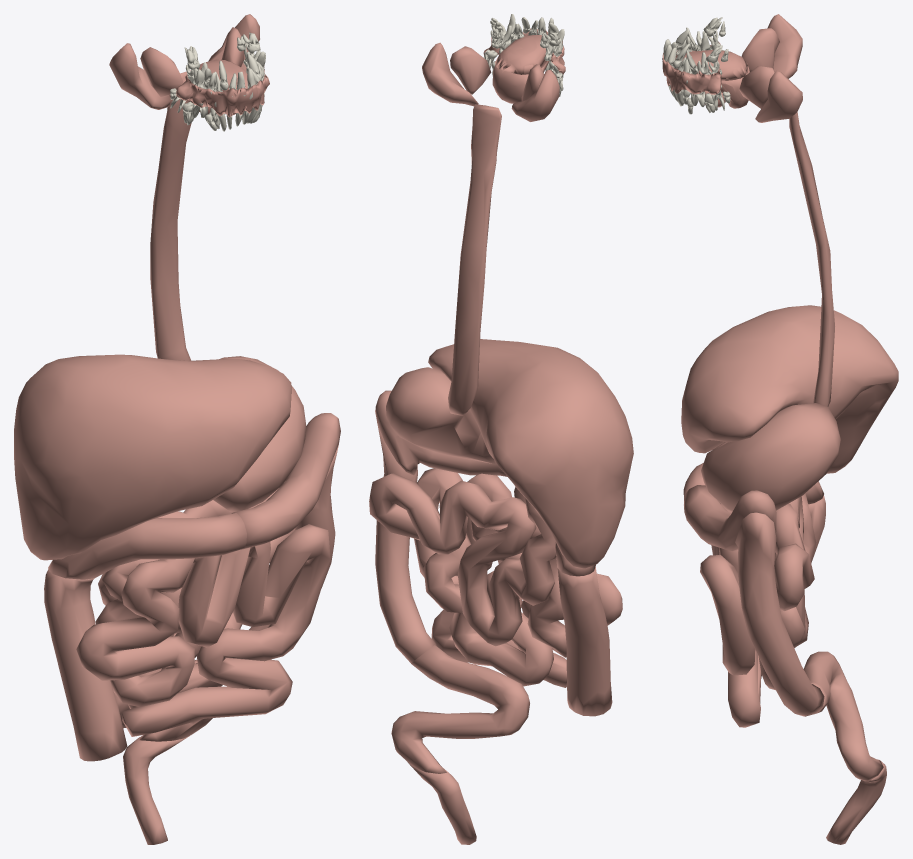
File: pediatric_child_10y_male.digestive.LOD2.glb
3 views of the same model, side by side, from view 1: azimuth 30°, elevation 25°; view 2: azimuth 150°, elevation 25°; view 3: azimuth 270°, elevation 25° (orthographic). The views are drawn at different scales.
Parts seen in each view (by area): view 1: PEDIATRIC.CHILD_10Y.MALE.DIGESTIVE.LIVER, PEDIATRIC.CHILD_10Y.MALE.DIGESTIVE.SMALL_INTESTINE_WALL, PEDIATRIC.CHILD_10Y.MALE.DIGESTIVE.ASCENDING_COLON_WALL, PEDIATRIC.CHILD_10Y.MALE.DIGESTIVE.OESOPHAGUS_WALL, PEDIATRIC.CHILD_10Y.MALE.DIGESTIVE.TRANSVERSE_COLON_WALL.R, PEDIATRIC.CHILD_10Y.MALE.DIGESTIVE.TRANSVERSE_COLON_WALL.L, PEDIATRIC.CHILD_10Y.MALE.DIGESTIVE.STOMACH_WALL, PEDIATRIC.CHILD_10Y.MALE.DIGESTIVE.SALIVARY_GLANDS.R, PEDIATRIC.CHILD_10Y.MALE.DIGESTIVE.RECTUM_WALL, PEDIATRIC.CHILD_10Y.MALE.DIGESTIVE.PERMANENT_CEMENTUM, PEDIATRIC.CHILD_10Y.MALE.DIGESTIVE.ORAL_MUCOSA_LIP_AND_CHEEK, PEDIATRIC.CHILD_10Y.MALE.DIGESTIVE.DESCENDING_COLON_WALL (+3 smaller); view 2: PEDIATRIC.CHILD_10Y.MALE.DIGESTIVE.SMALL_INTESTINE_WALL, PEDIATRIC.CHILD_10Y.MALE.DIGESTIVE.LIVER, PEDIATRIC.CHILD_10Y.MALE.DIGESTIVE.OESOPHAGUS_WALL, PEDIATRIC.CHILD_10Y.MALE.DIGESTIVE.SIGMOID_COLON_WALL, PEDIATRIC.CHILD_10Y.MALE.DIGESTIVE.ASCENDING_COLON_WALL, PEDIATRIC.CHILD_10Y.MALE.DIGESTIVE.STOMACH_WALL, PEDIATRIC.CHILD_10Y.MALE.DIGESTIVE.DESCENDING_COLON_WALL, PEDIATRIC.CHILD_10Y.MALE.DIGESTIVE.SALIVARY_GLANDS.L, PEDIATRIC.CHILD_10Y.MALE.DIGESTIVE.TRANSVERSE_COLON_WALL.L, PEDIATRIC.CHILD_10Y.MALE.DIGESTIVE.RECTUM_WALL, PEDIATRIC.CHILD_10Y.MALE.DIGESTIVE.SALIVARY_GLANDS.R, PEDIATRIC.CHILD_10Y.MALE.DIGESTIVE.PERMANENT_CEMENTUM (+2 smaller); view 3: PEDIATRIC.CHILD_10Y.MALE.DIGESTIVE.LIVER, PEDIATRIC.CHILD_10Y.MALE.DIGESTIVE.SMALL_INTESTINE_WALL, PEDIATRIC.CHILD_10Y.MALE.DIGESTIVE.STOMACH_WALL, PEDIATRIC.CHILD_10Y.MALE.DIGESTIVE.DESCENDING_COLON_WALL, PEDIATRIC.CHILD_10Y.MALE.DIGESTIVE.SIGMOID_COLON_WALL, PEDIATRIC.CHILD_10Y.MALE.DIGESTIVE.OESOPHAGUS_WALL, PEDIATRIC.CHILD_10Y.MALE.DIGESTIVE.TRANSVERSE_COLON_WALL.L, PEDIATRIC.CHILD_10Y.MALE.DIGESTIVE.SALIVARY_GLANDS.L, PEDIATRIC.CHILD_10Y.MALE.DIGESTIVE.SALIVARY_GLANDS.R, PEDIATRIC.CHILD_10Y.MALE.DIGESTIVE.PERMANENT_CEMENTUM, PEDIATRIC.CHILD_10Y.MALE.DIGESTIVE.RECTUM_WALL, PEDIATRIC.CHILD_10Y.MALE.DIGESTIVE.ORAL_MUCOSA_LIP_AND_CHEEK (+4 smaller).
Part boxes in pixels (left/top/right/bottom): PEDIATRIC.CHILD_10Y.MALE.DIGESTIVE.LIVER: left=14, top=354, right=291, bottom=560; PEDIATRIC.CHILD_10Y.MALE.DIGESTIVE.SMALL_INTESTINE_WALL: left=76, top=488, right=330, bottom=736; PEDIATRIC.CHILD_10Y.MALE.DIGESTIVE.ASCENDING_COLON_WALL: left=44, top=569, right=127, bottom=761; PEDIATRIC.CHILD_10Y.MALE.DIGESTIVE.OESOPHAGUS_WALL: left=150, top=70, right=191, bottom=360; PEDIATRIC.CHILD_10Y.MALE.DIGESTIVE.TRANSVERSE_COLON_WALL.R: left=48, top=513, right=246, bottom=579; PEDIATRIC.CHILD_10Y.MALE.DIGESTIVE.TRANSVERSE_COLON_WALL.L: left=231, top=413, right=340, bottom=549; PEDIATRIC.CHILD_10Y.MALE.DIGESTIVE.STOMACH_WALL: left=213, top=356, right=306, bottom=511; PEDIATRIC.CHILD_10Y.MALE.DIGESTIVE.SALIVARY_GLANDS.R: left=109, top=43, right=225, bottom=114; PEDIATRIC.CHILD_10Y.MALE.DIGESTIVE.RECTUM_WALL: left=123, top=736, right=189, bottom=844; PEDIATRIC.CHILD_10Y.MALE.DIGESTIVE.PERMANENT_CEMENTUM: left=170, top=32, right=265, bottom=131; PEDIATRIC.CHILD_10Y.MALE.DIGESTIVE.ORAL_MUCOSA_LIP_AND_CHEEK: left=176, top=65, right=269, bottom=117; PEDIATRIC.CHILD_10Y.MALE.DIGESTIVE.DESCENDING_COLON_WALL: left=249, top=440, right=339, bottom=630; PEDIATRIC.CHILD_10Y.MALE.DIGESTIVE.SMALL_INTESTINE_WALL: left=369, top=468, right=622, bottom=687; PEDIATRIC.CHILD_10Y.MALE.DIGESTIVE.LIVER: left=428, top=339, right=633, bottom=568; PEDIATRIC.CHILD_10Y.MALE.DIGESTIVE.OESOPHAGUS_WALL: left=448, top=104, right=501, bottom=415; PEDIATRIC.CHILD_10Y.MALE.DIGESTIVE.SIGMOID_COLON_WALL: left=391, top=645, right=529, bottom=773; PEDIATRIC.CHILD_10Y.MALE.DIGESTIVE.ASCENDING_COLON_WALL: left=557, top=567, right=612, bottom=716; PEDIATRIC.CHILD_10Y.MALE.DIGESTIVE.STOMACH_WALL: left=386, top=367, right=496, bottom=463; PEDIATRIC.CHILD_10Y.MALE.DIGESTIVE.DESCENDING_COLON_WALL: left=375, top=410, right=435, bottom=663; PEDIATRIC.CHILD_10Y.MALE.DIGESTIVE.SALIVARY_GLANDS.L: left=422, top=42, right=491, bottom=106; PEDIATRIC.CHILD_10Y.MALE.DIGESTIVE.TRANSVERSE_COLON_WALL.L: left=375, top=390, right=507, bottom=476; PEDIATRIC.CHILD_10Y.MALE.DIGESTIVE.RECTUM_WALL: left=408, top=763, right=476, bottom=844; PEDIATRIC.CHILD_10Y.MALE.DIGESTIVE.SALIVARY_GLANDS.R: left=511, top=64, right=559, bottom=121; PEDIATRIC.CHILD_10Y.MALE.DIGESTIVE.PERMANENT_CEMENTUM: left=490, top=14, right=564, bottom=96; PEDIATRIC.CHILD_10Y.MALE.DIGESTIVE.LIVER: left=681, top=305, right=898, bottom=473; PEDIATRIC.CHILD_10Y.MALE.DIGESTIVE.SMALL_INTESTINE_WALL: left=700, top=493, right=816, bottom=727; PEDIATRIC.CHILD_10Y.MALE.DIGESTIVE.STOMACH_WALL: left=701, top=403, right=840, bottom=511; PEDIATRIC.CHILD_10Y.MALE.DIGESTIVE.DESCENDING_COLON_WALL: left=735, top=512, right=824, bottom=716; PEDIATRIC.CHILD_10Y.MALE.DIGESTIVE.SIGMOID_COLON_WALL: left=803, top=651, right=883, bottom=781; PEDIATRIC.CHILD_10Y.MALE.DIGESTIVE.OESOPHAGUS_WALL: left=789, top=111, right=834, bottom=406; PEDIATRIC.CHILD_10Y.MALE.DIGESTIVE.TRANSVERSE_COLON_WALL.L: left=684, top=485, right=776, bottom=550; PEDIATRIC.CHILD_10Y.MALE.DIGESTIVE.SALIVARY_GLANDS.L: left=704, top=66, right=802, bottom=122; PEDIATRIC.CHILD_10Y.MALE.DIGESTIVE.SALIVARY_GLANDS.R: left=741, top=14, right=802, bottom=78; PEDIATRIC.CHILD_10Y.MALE.DIGESTIVE.PERMANENT_CEMENTUM: left=663, top=17, right=730, bottom=114; PEDIATRIC.CHILD_10Y.MALE.DIGESTIVE.RECTUM_WALL: left=826, top=759, right=886, bottom=844; PEDIATRIC.CHILD_10Y.MALE.DIGESTIVE.ORAL_MUCOSA_LIP_AND_CHEEK: left=662, top=41, right=721, bottom=94.
Bounding box in the file's own units: 0.2206 × 0.6191 × 0.1634.
